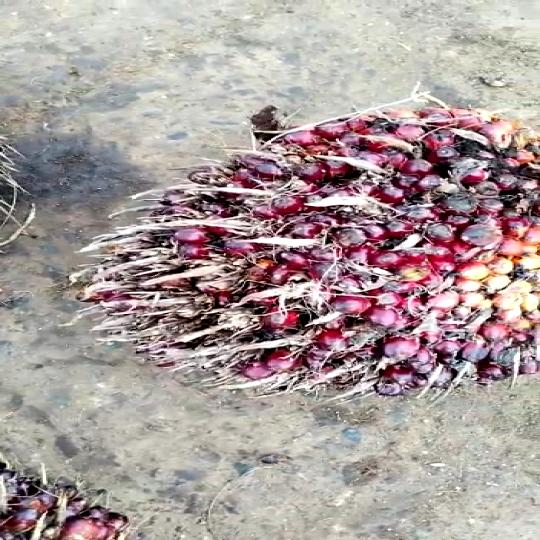masak: (80, 95, 540, 398)
